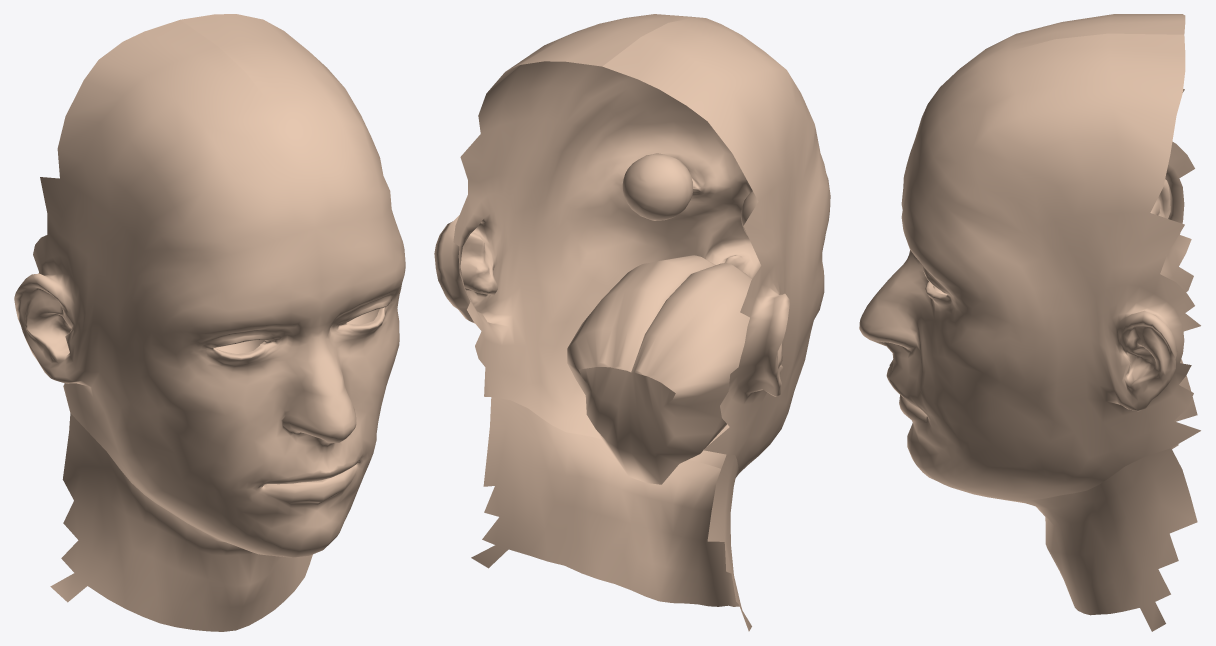
The model's file is face_fit_surface.glb.
3 views of the same model, side by side, from view 1: azimuth 30°, elevation 25°; view 2: azimuth 150°, elevation 25°; view 3: azimuth 270°, elevation 25° (orthographic). The views are drawn at different scales.
Visible parts, largest first — view 1: FaceFitSurface; view 2: FaceFitSurface; view 3: FaceFitSurface.
Part boxes in pixels (x1=…): FaceFitSurface: x1=14, y1=14, x2=405, y2=631; FaceFitSurface: x1=434, y1=14, x2=830, y2=631; FaceFitSurface: x1=859, y1=14, x2=1200, y2=631.
Size of the model in its own units: 0.1767 by 0.2786 by 0.1527.
